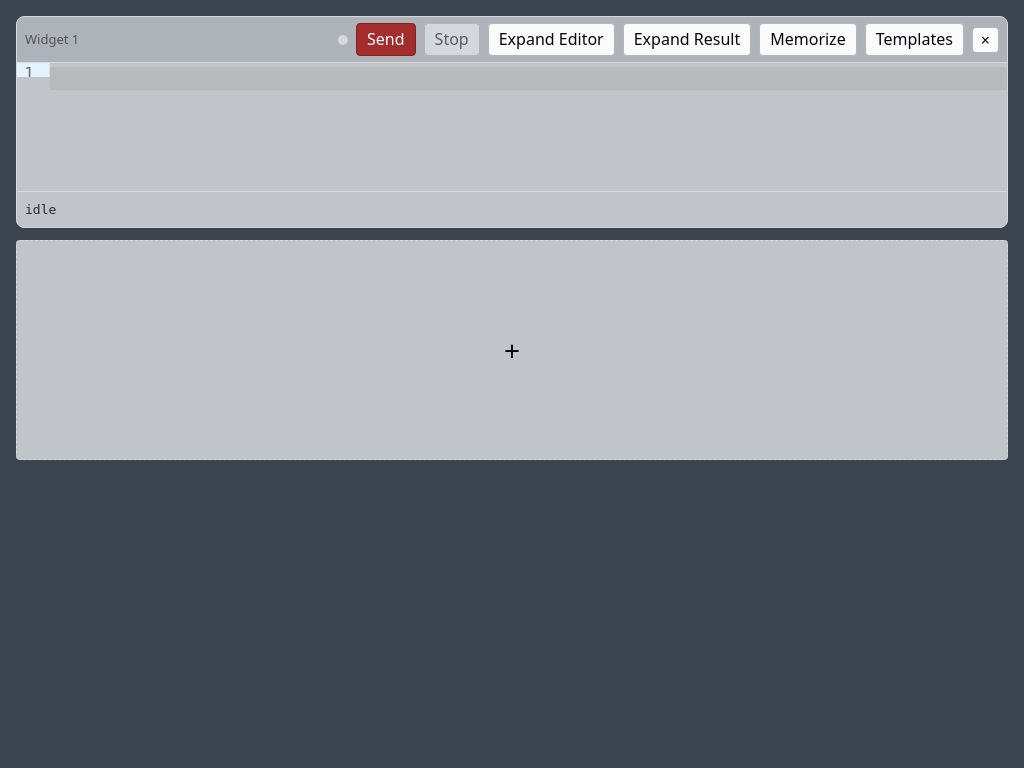
Test: Grid › makes a template saved from one widget appear in every other widget immediately
Click the button named "Add widget".
click(512, 350)  # box [16,240,1008,460]
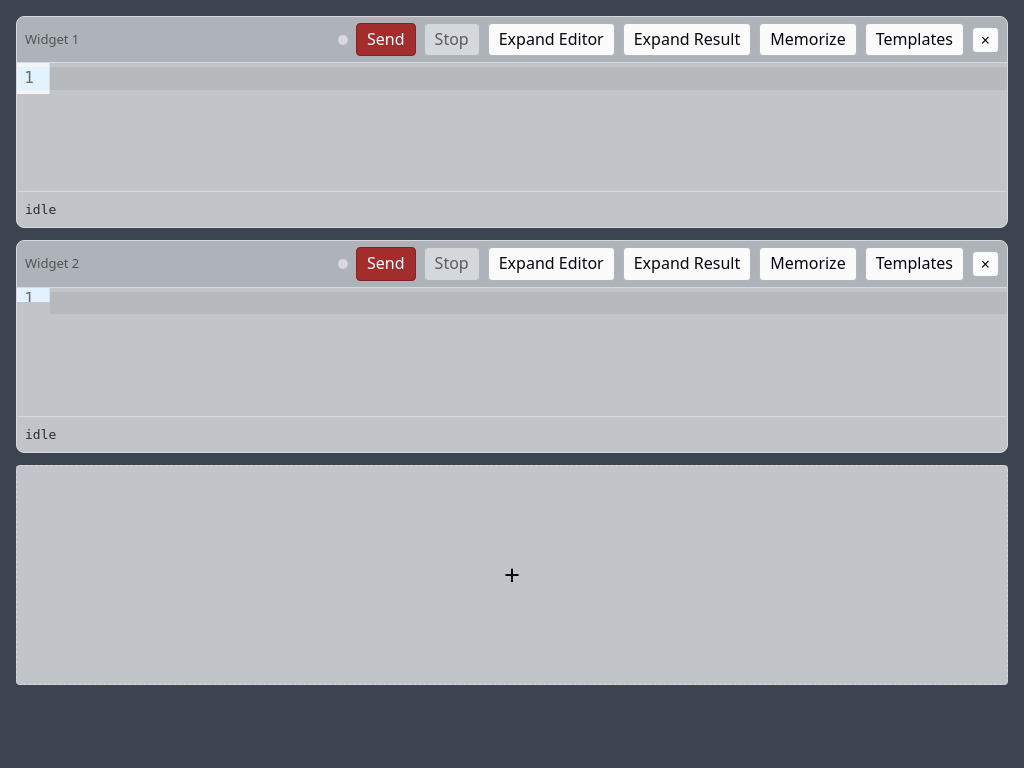
Click the button "Memorize" in the row of "Widget 1".
click(808, 40)  # box [759,23,857,56]
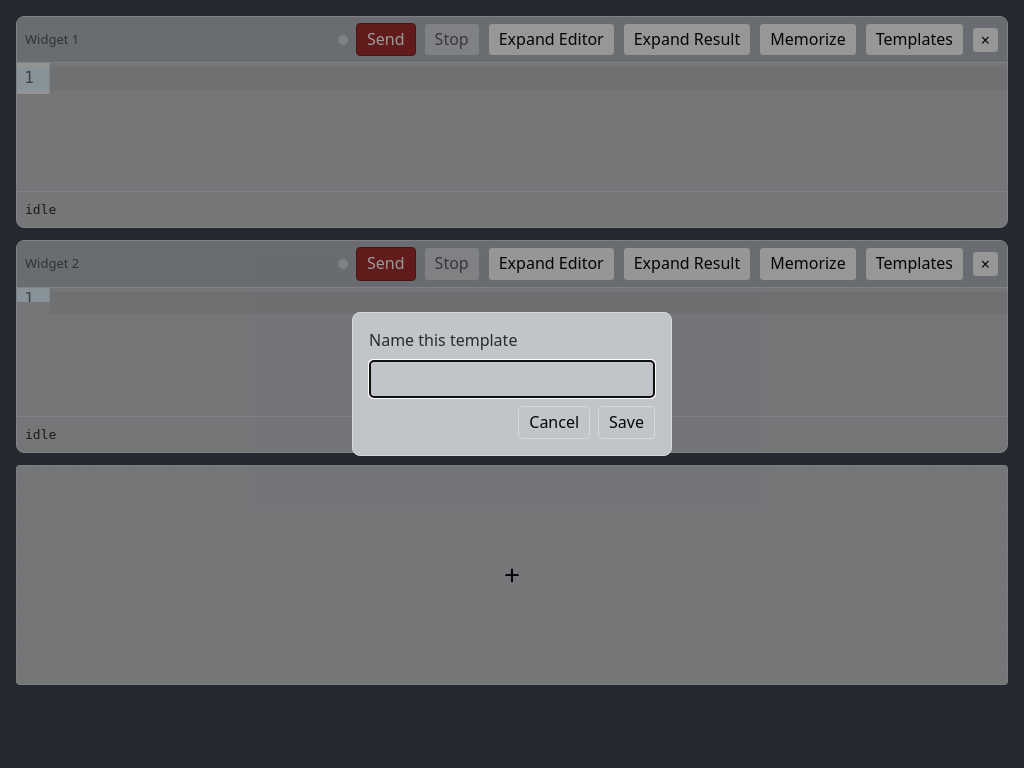
Type "new one" into the field labelled "Name this template".
click(512, 379); type("new one")  # box [369,360,655,398]
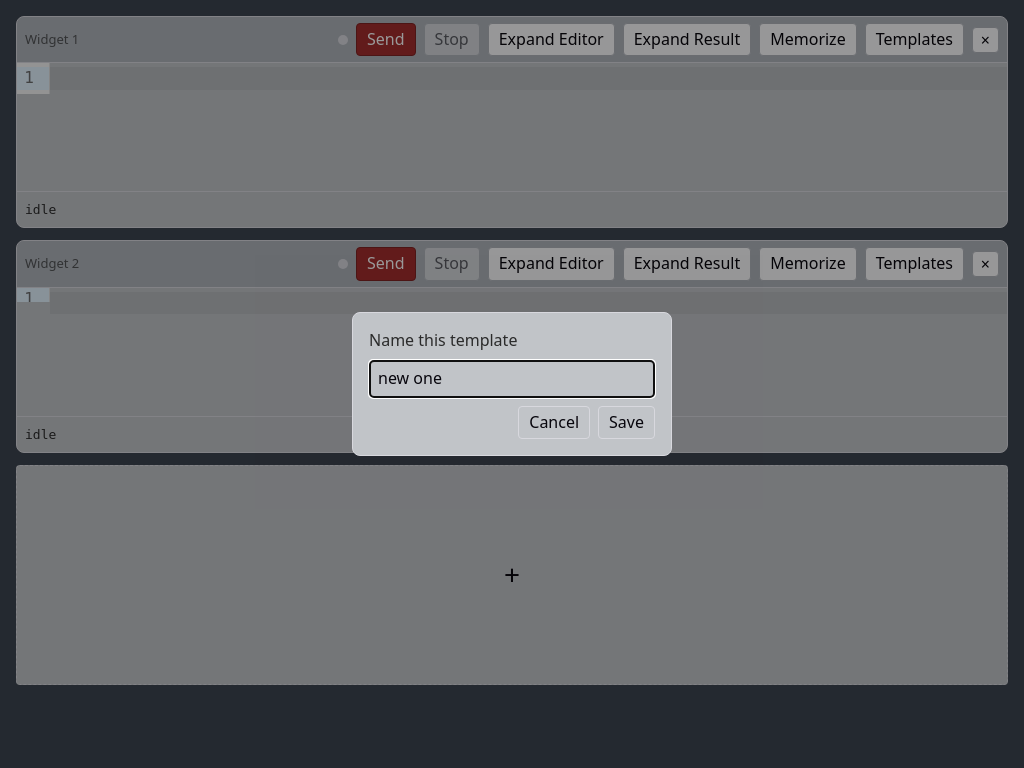
Click the button "Save".
click(627, 422)  # box [598,406,655,439]
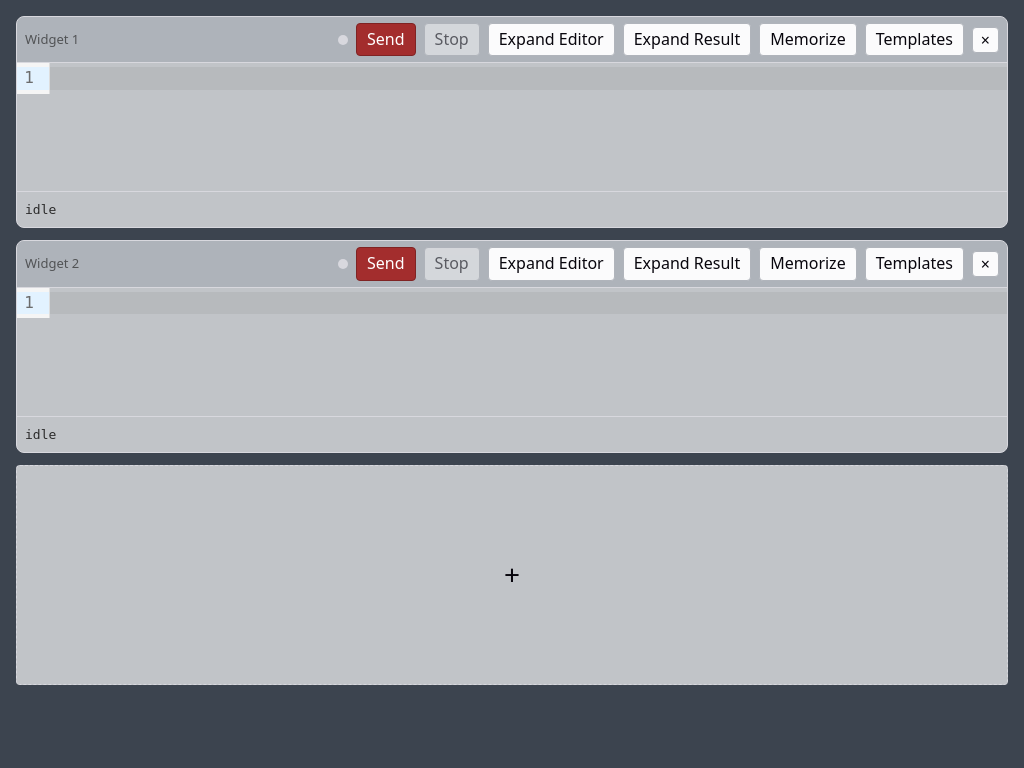
Click the button "Templates" in the row of "Widget 2".
click(914, 264)  # box [865,247,964,281]
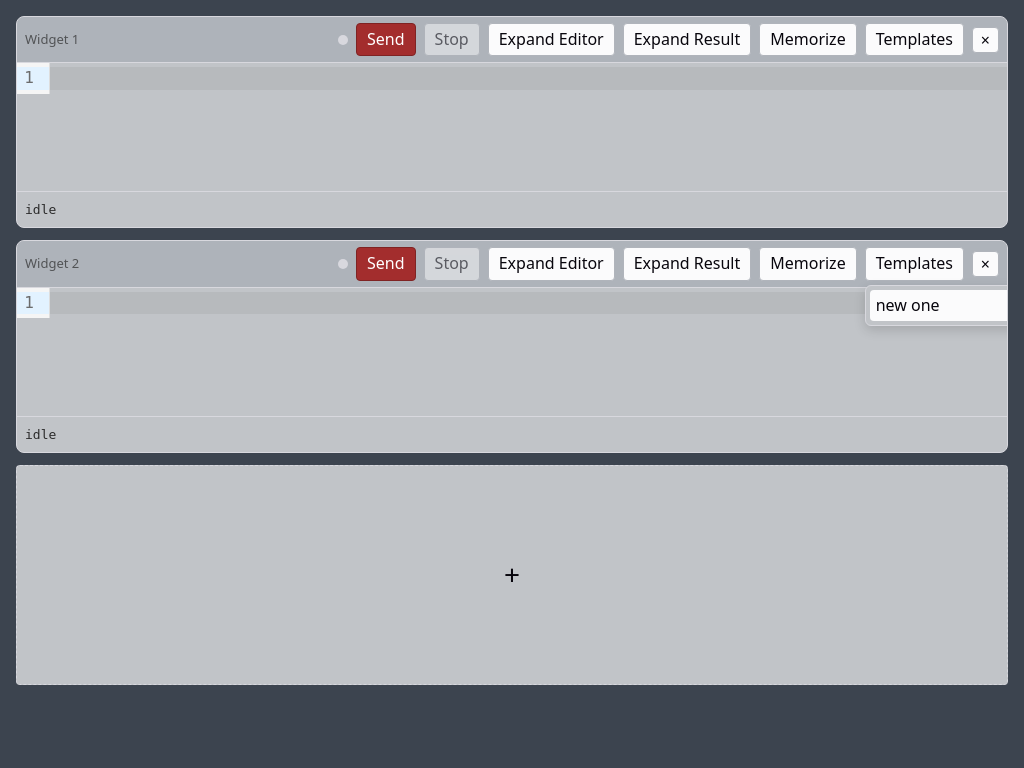
Check: the number of buttons "new one" is 1, box [870,290,1008,321]
